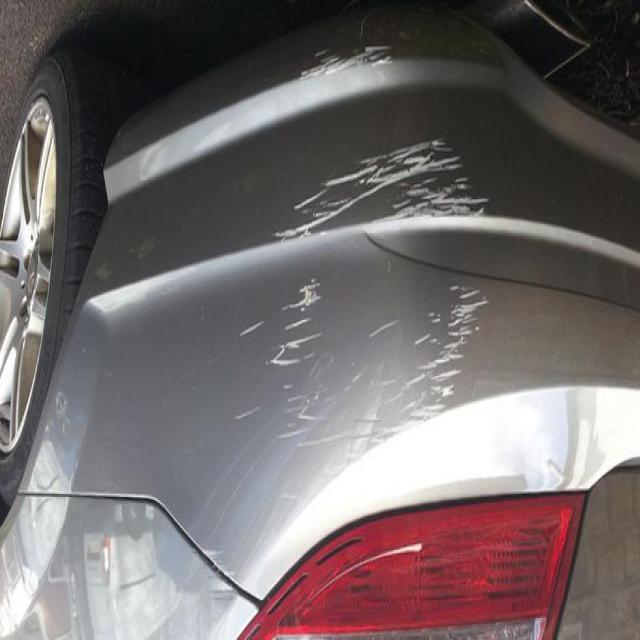scratch: (213, 105, 514, 514), (292, 29, 405, 108)
